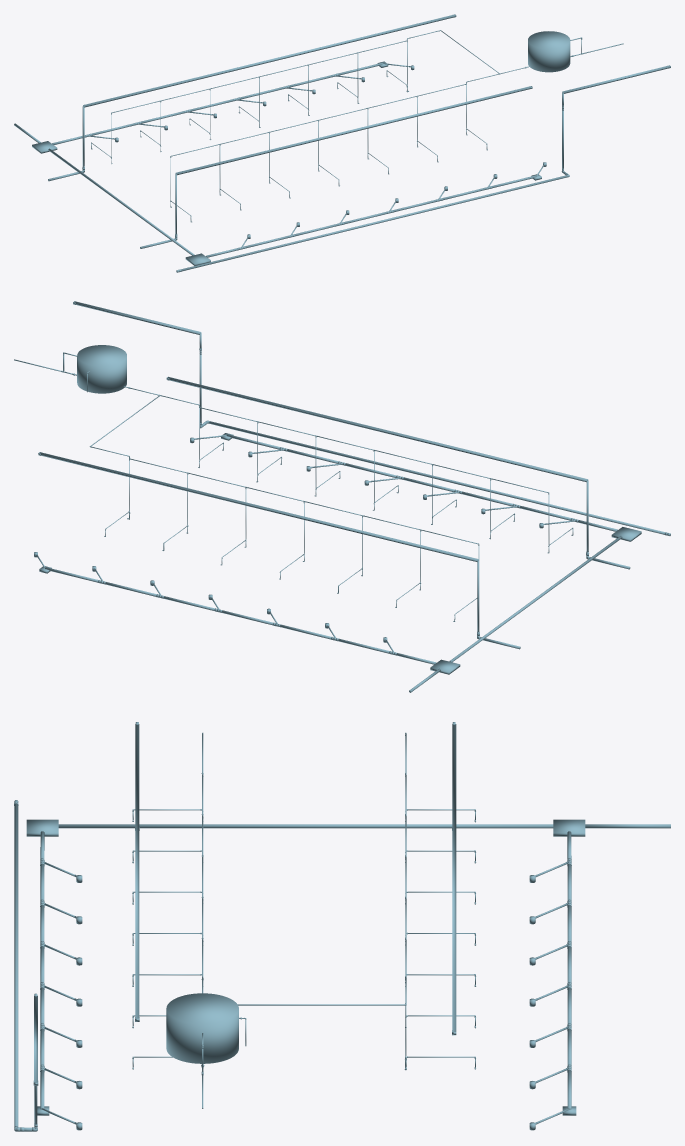
File: HIDRAULICA.glb
The picture shows the model from 3 angles, top to bottom: view 1: azimuth 30°, elevation 25°; view 2: azimuth 150°, elevation 25°; view 3: azimuth 270°, elevation 25°; orthographic projection. The views are drawn at different scales.
Parts seen in each view (by area): view 1: IFCFLOWSEGMENT, IFCFLOWSTORAGEDEVICE, IFCFLOWTERMINAL; view 2: IFCFLOWSEGMENT, IFCFLOWSTORAGEDEVICE, IFCFLOWTERMINAL; view 3: IFCFLOWSEGMENT, IFCFLOWSTORAGEDEVICE, IFCFLOWTERMINAL.
Boxes of the visible parts, x1,y1,x2,y2 form: IFCFLOWSEGMENT: (14,14,669,271); IFCFLOWSTORAGEDEVICE: (528,31,570,72); IFCFLOWTERMINAL: (32,61,546,265); IFCFLOWSEGMENT: (14,301,670,692); IFCFLOWSTORAGEDEVICE: (77,345,126,393); IFCFLOWTERMINAL: (34,433,641,674); IFCFLOWSEGMENT: (14,722,670,1131); IFCFLOWSTORAGEDEVICE: (166,993,238,1063); IFCFLOWTERMINAL: (26,819,585,1130).
Bounding box in the file's own units: 24.95 × 4.31 × 16.5.
